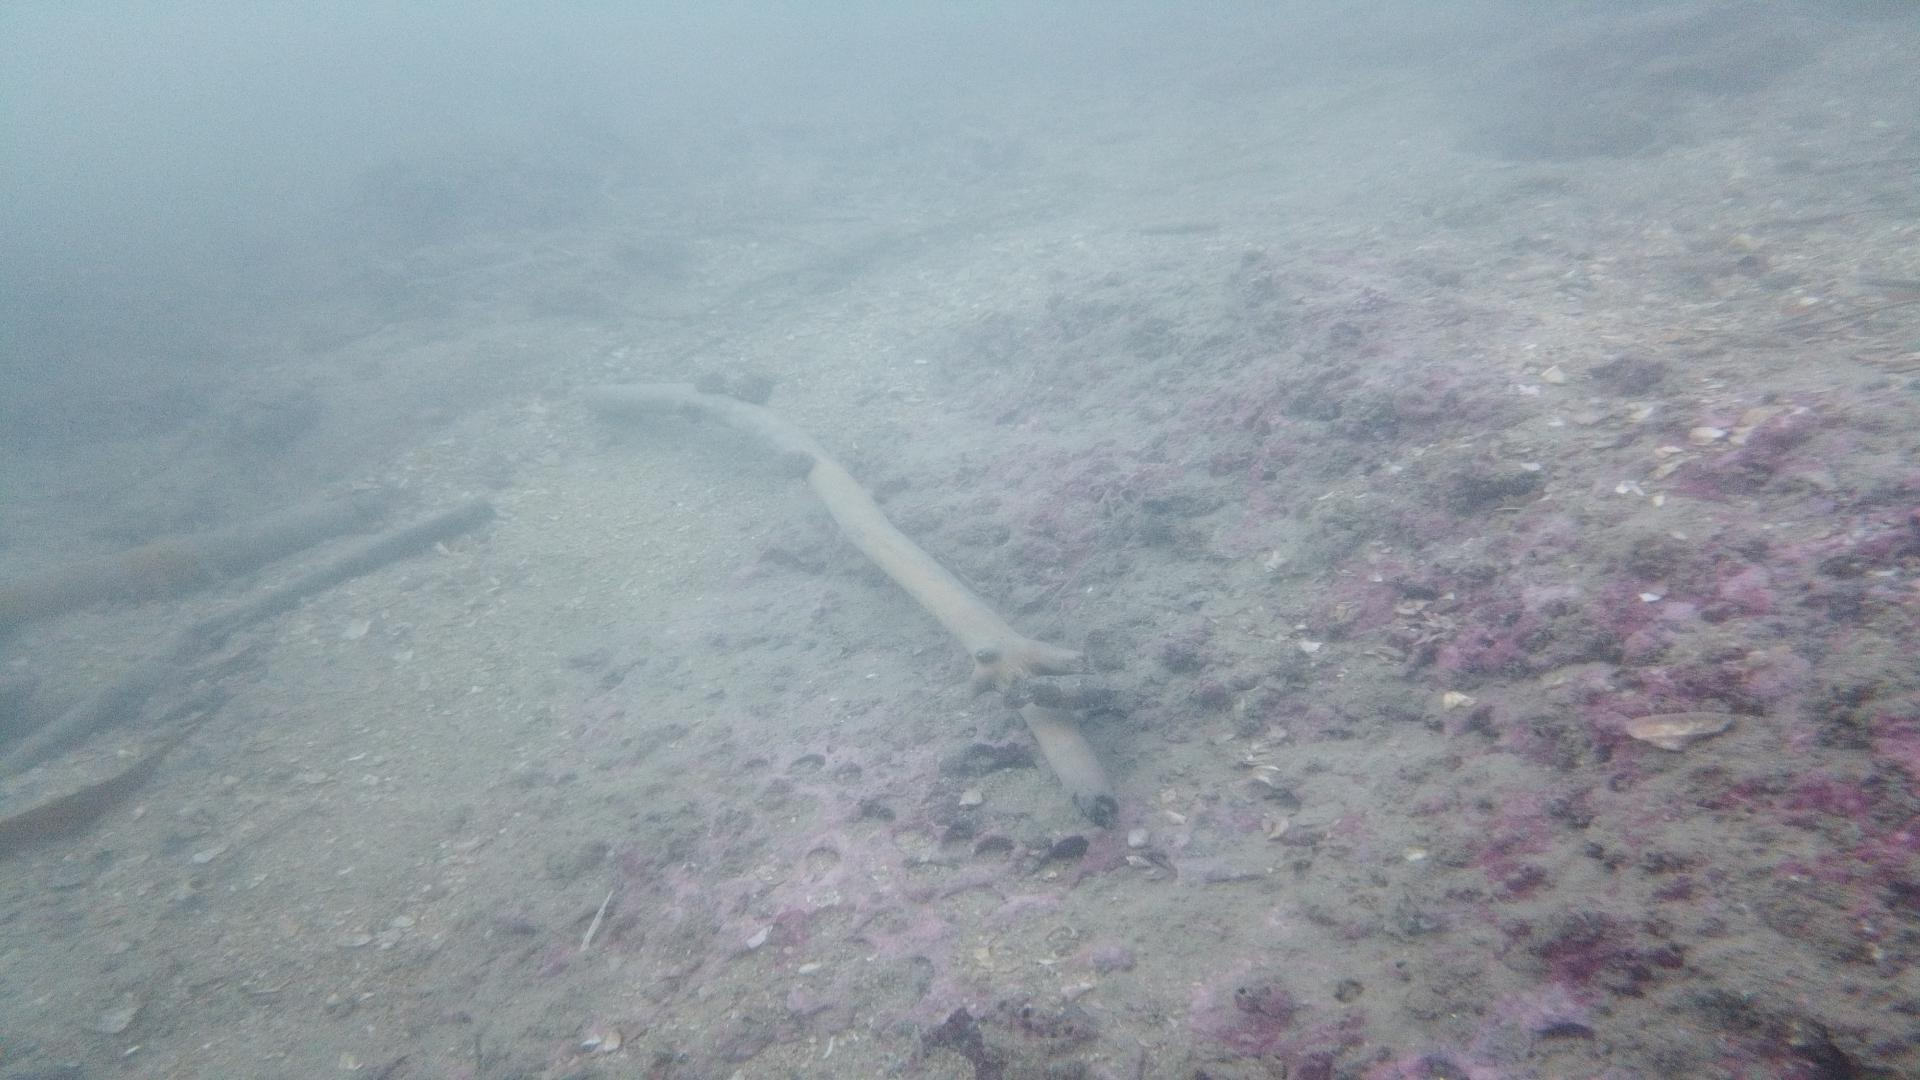wood: (585, 378, 1122, 829)
